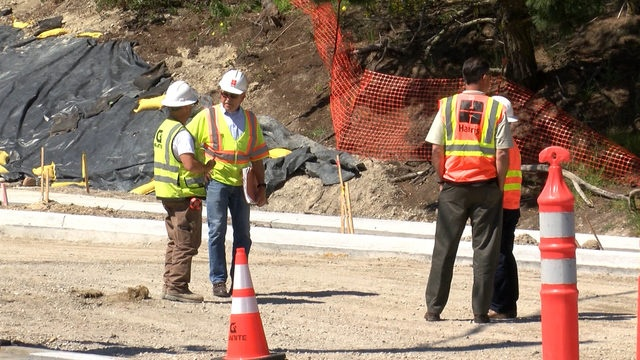none: (461, 54, 491, 94)
white: (160, 79, 196, 122), (218, 69, 248, 110)
